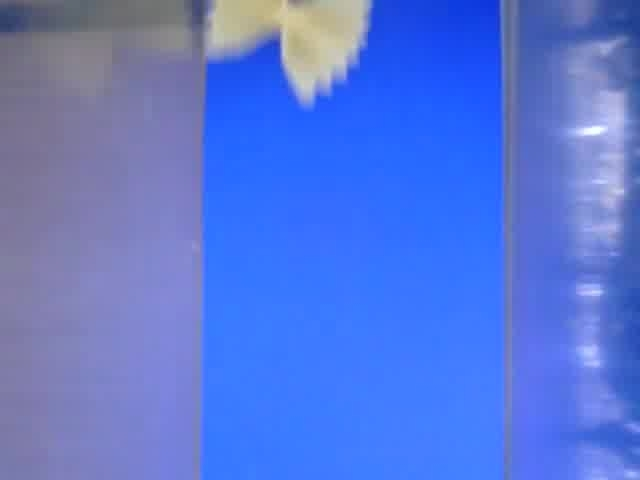farfalle: (209, 1, 368, 106)
